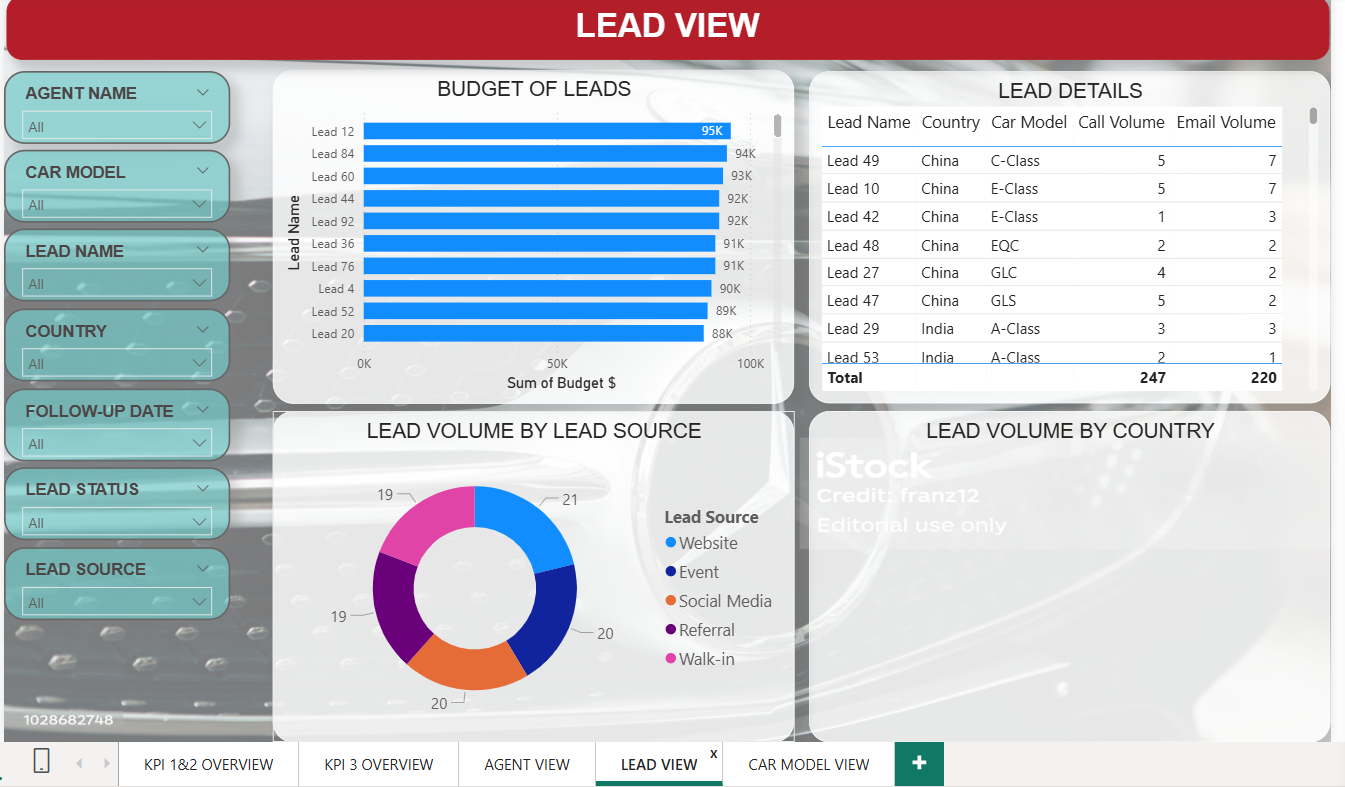

The dashboard page shown, as its layout file describes it:
{"tool":"powerbi","page":{"name":"LEAD VIEW","canvas":[1280,720],"ordinal":3},"visuals":[{"type":"tableEx","title":"LEAD DETAILS","fields":{"Values":["Lead Lookup.Lead Name","Country Lookup.Country","Car Model Lookup.Car Model","Agent Lookup.Call Volume","Agent Lookup.Email Volume"]},"box":[776.7,72.2,503.3,321.1],"z":1000},{"type":"filledMap","title":"LEAD VOLUME BY COUNTRY","fields":{"Category":["Country Lookup.Country"],"Series":["Country Lookup.Country"]},"box":[776.9,400.5,503.1,319.7],"z":2000},{"type":"clusteredBarChart","title":"BUDGET OF LEADS","fields":{"Category":["Lead Lookup.Lead Name"],"Y":["Sales Main Data.Budget $"]},"box":[258.9,71.1,503.3,322.2],"z":3000},{"type":"donutChart","title":"LEAD VOLUME BY LEAD SOURCE","fields":{"Category":["Sales Main Data.Lead Source"],"Y":["Agent Lookup.Lead count"]},"box":[259.4,400.5,503.1,319.7],"z":4000},{"type":"textbox","box":[2,0,1276.4,61.5],"z":5000},{"type":"slicer","fields":{"Values":["Agent Lookup.Agent Name"]},"box":[0,72.5,218.8,70],"z":6000},{"type":"slicer","fields":{"Values":["Car Model Lookup.Car Model"]},"box":[0,148.8,218.8,70],"z":7000},{"type":"slicer","fields":{"Values":["Lead Lookup.Lead Name"]},"box":[0,225,218.8,70],"z":8000},{"type":"slicer","fields":{"Values":["Country Lookup.Country"]},"box":[0,301.2,218.8,70],"z":9000},{"type":"slicer","fields":{"Values":["Sales Main Data.Follow-up Date"]},"box":[0,378.8,218.8,70],"z":10000},{"type":"slicer","fields":{"Values":["Sales Main Data.Lead Status"]},"box":[0,455,218.8,70],"z":11000},{"type":"slicer","fields":{"Values":["Sales Main Data.Lead Source"]},"box":[0,532.5,218.8,70],"z":12000}]}

Visuals, with their boxes in screenshot pixels (x1, y1, x2, y2):
"LEAD DETAILS" tableEx: (x1=805, y1=68, x2=1326, y2=401)
"LEAD VOLUME BY COUNTRY" filledMap: (x1=805, y1=408, x2=1326, y2=739)
"BUDGET OF LEADS" clusteredBarChart: (x1=268, y1=67, x2=790, y2=401)
"LEAD VOLUME BY LEAD SOURCE" donutChart: (x1=269, y1=408, x2=790, y2=739)
textbox: (x1=2, y1=0, x2=1325, y2=57)
slicer - Agent Lookup.Agent Name: (x1=0, y1=68, x2=227, y2=141)
slicer - Car Model Lookup.Car Model: (x1=0, y1=147, x2=227, y2=220)
slicer - Lead Lookup.Lead Name: (x1=0, y1=226, x2=227, y2=299)
slicer - Country Lookup.Country: (x1=0, y1=305, x2=227, y2=378)
slicer - Sales Main Data.Follow-up Date: (x1=0, y1=386, x2=227, y2=458)
slicer - Sales Main Data.Lead Status: (x1=0, y1=464, x2=227, y2=537)
slicer - Sales Main Data.Lead Source: (x1=0, y1=545, x2=227, y2=617)
